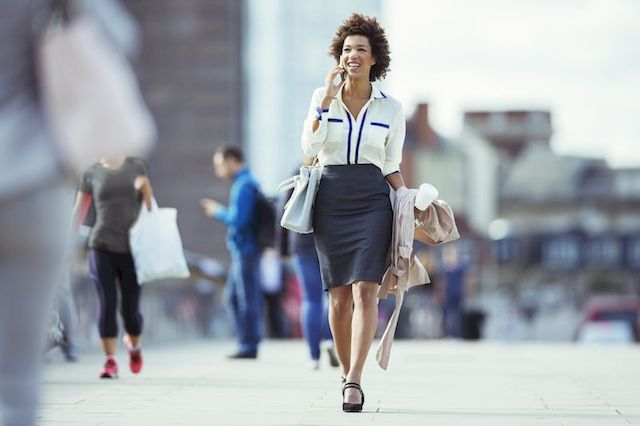phone: (333, 52, 348, 84)
talk: (325, 42, 369, 96)
